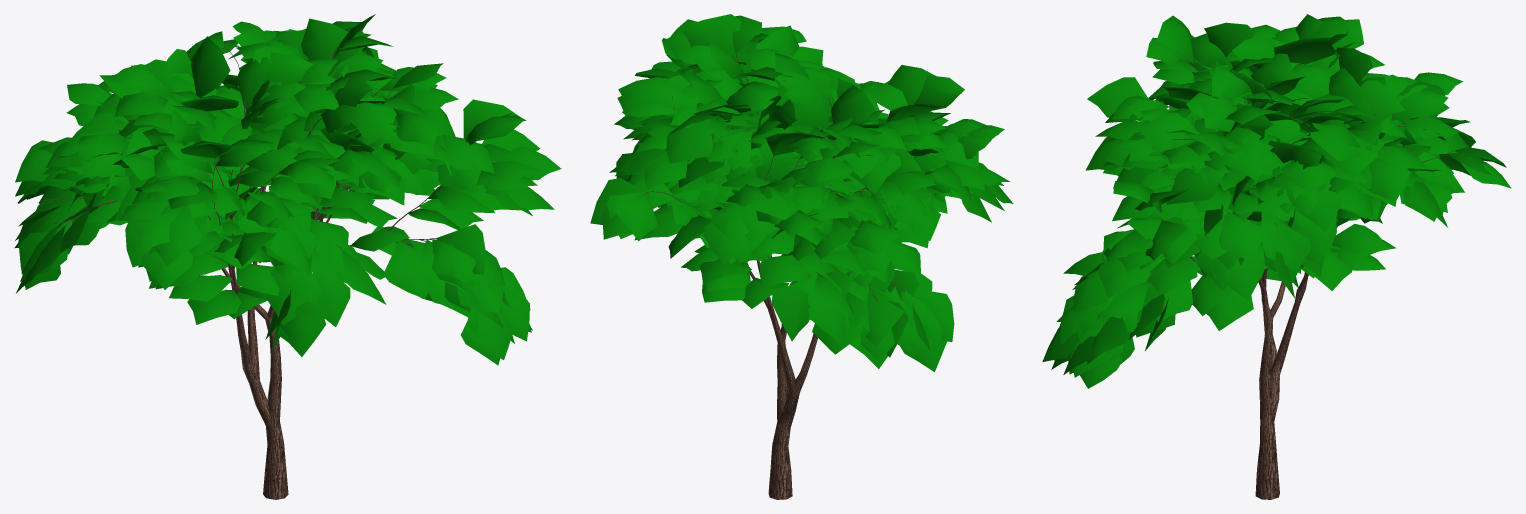
File: tree2.fbx
3 renders of one model, left to right at view 1: azimuth 30°, elevation 25°; view 2: azimuth 150°, elevation 25°; view 3: azimuth 270°, elevation 25°, orthographic. The views are drawn at different scales.
Parts seen in each view (by area): view 1: polySurface1; view 2: polySurface1; view 3: polySurface1.
Part boxes in pixels (x1=…): polySurface1: x1=14, y1=14, x2=561, y2=499; polySurface1: x1=590, y1=14, x2=1013, y2=499; polySurface1: x1=1042, y1=14, x2=1511, y2=499.
Bounding box in the file's own units: 3.63 × 3.82 × 3.55.
Materials: 2 (1 with a texture image).
